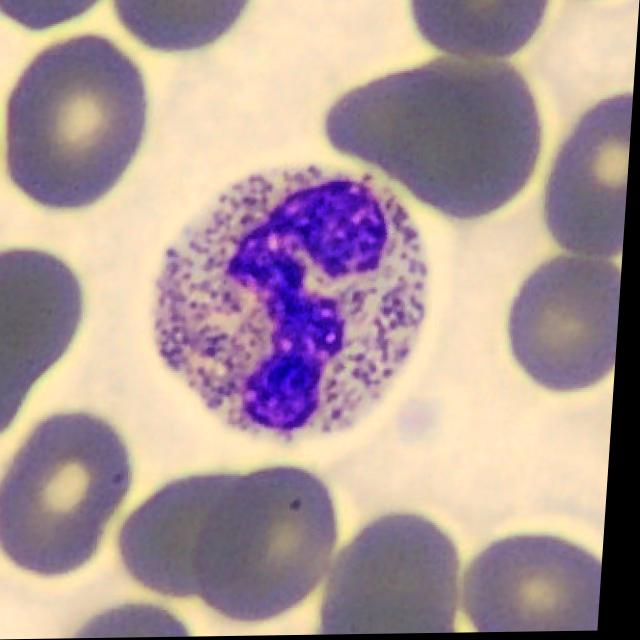Neutrofilo segmentado: (159, 162, 441, 436)
